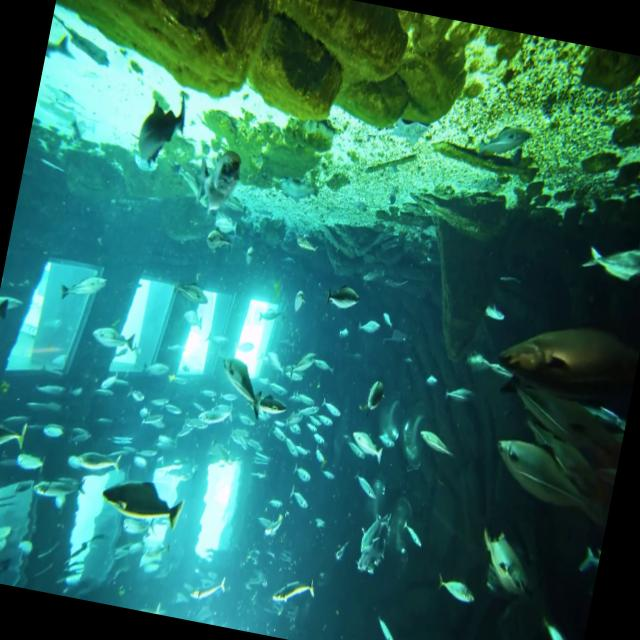fish: (498, 384, 630, 505), (494, 304, 634, 414), (487, 430, 620, 510), (97, 473, 185, 533), (472, 520, 541, 594), (134, 92, 190, 176), (214, 354, 269, 420)
